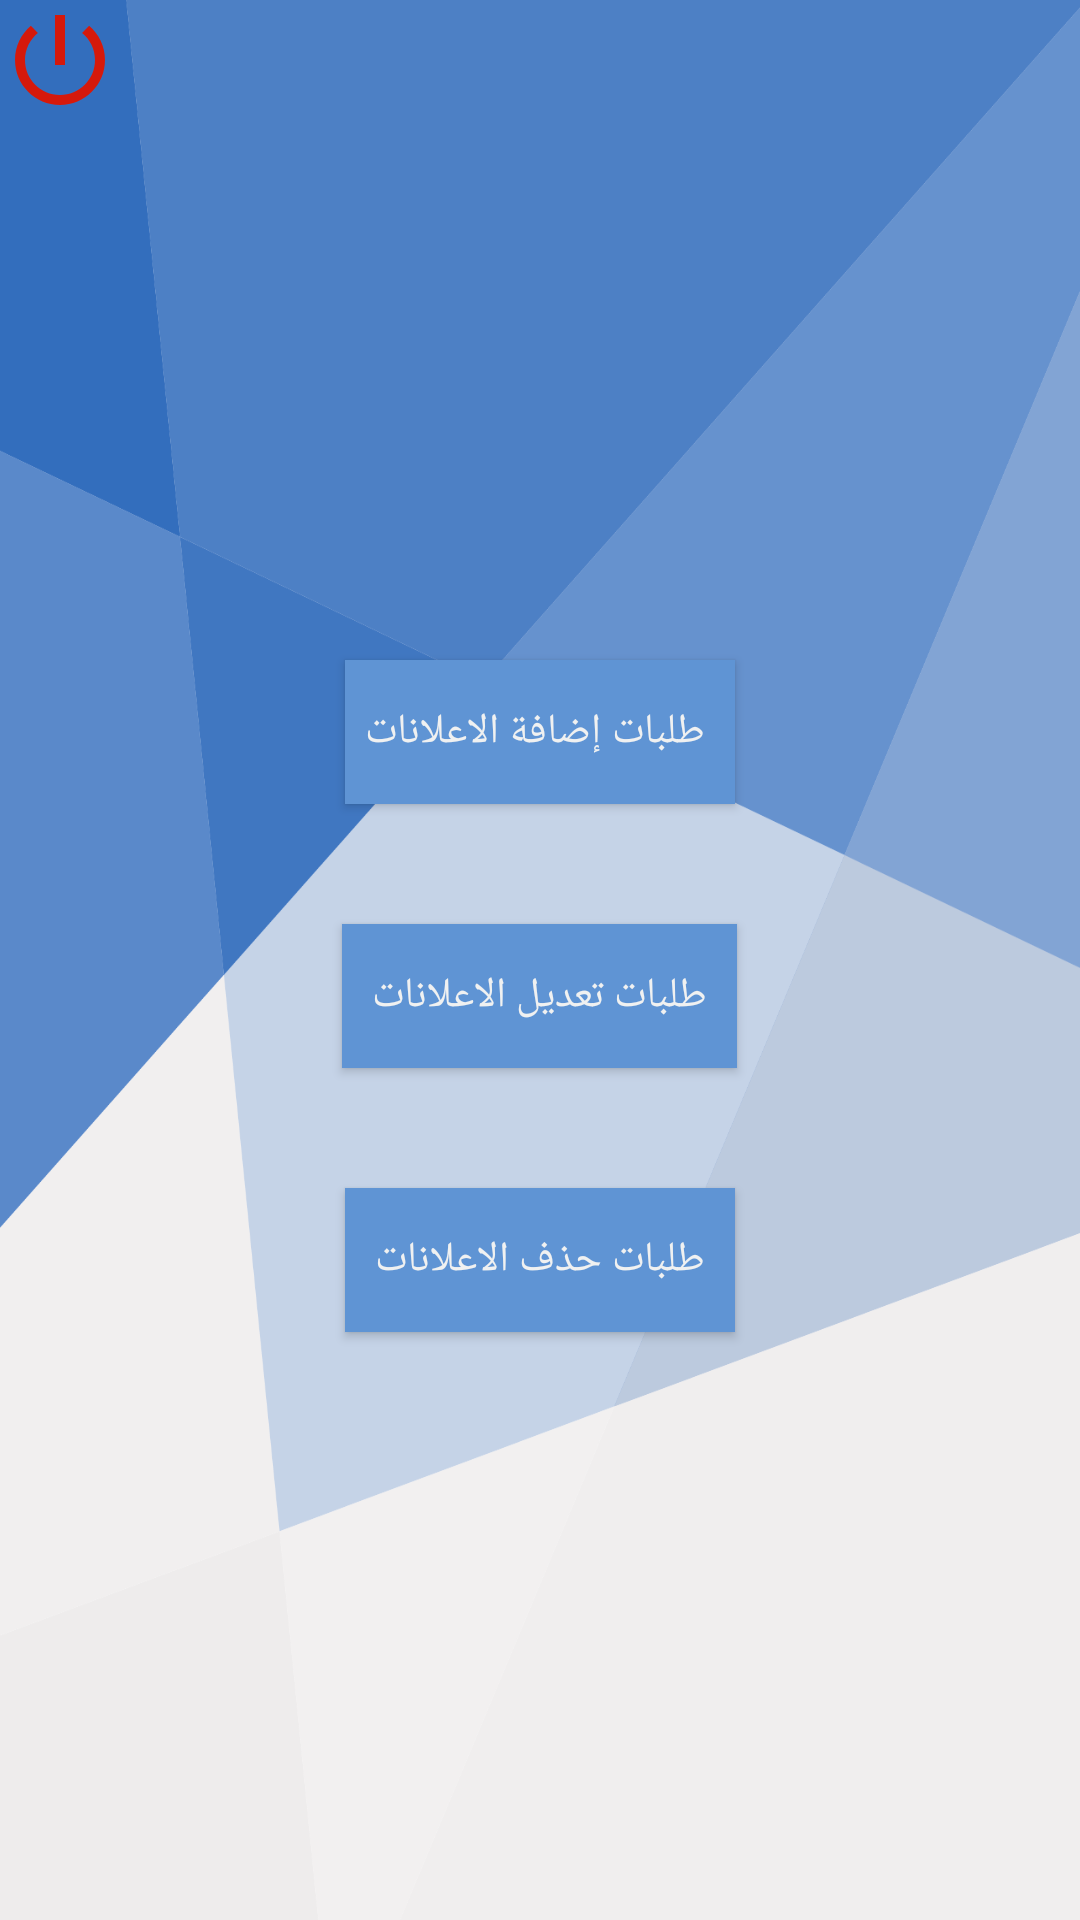

Named icons in this screenshot (1080 x 1920) and their centers, (x=x, y=y):
power: (x=60, y=60)
